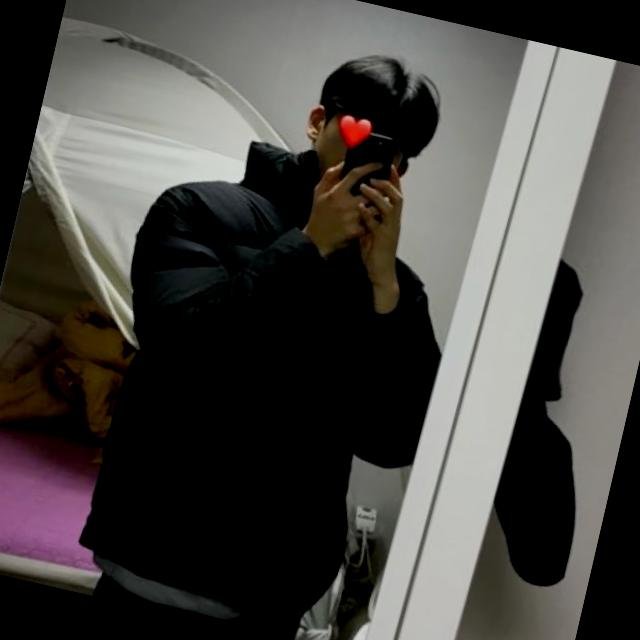padding: (58, 114, 476, 636)
